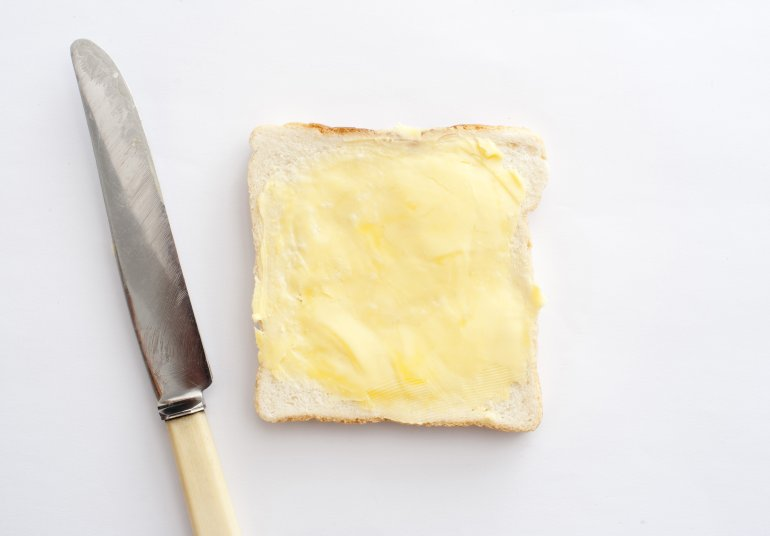slice of bread: (237, 117, 551, 434)
